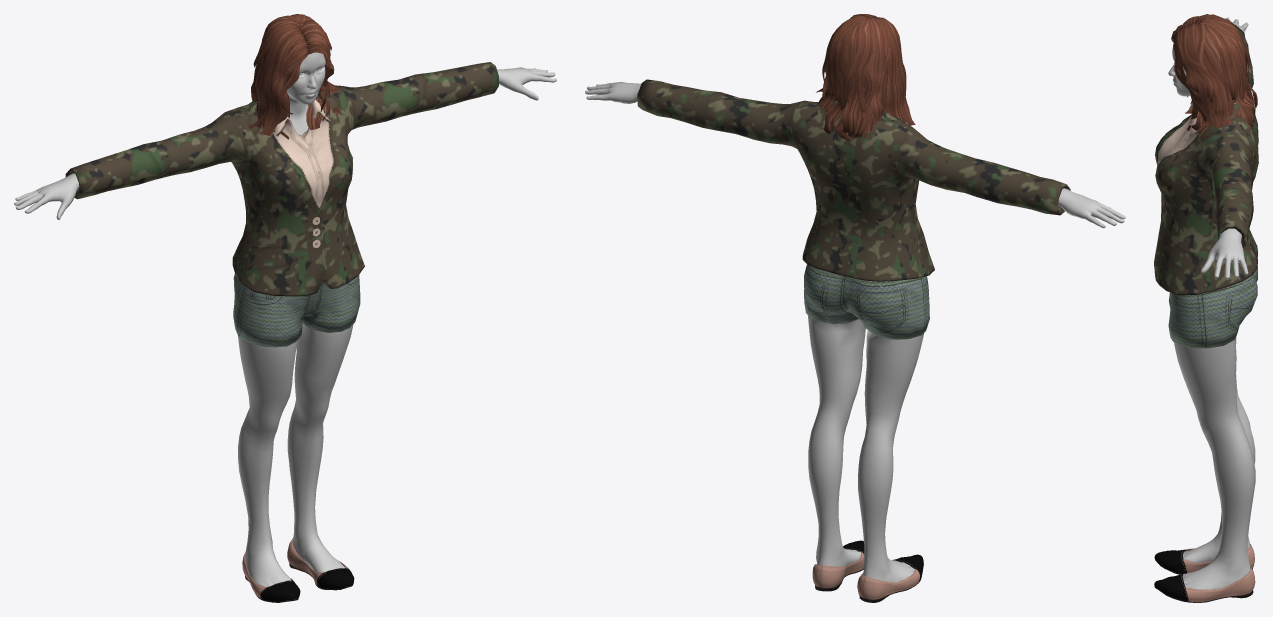
The picture shows the model from 3 angles, left to right: view 1: azimuth 30°, elevation 25°; view 2: azimuth 150°, elevation 25°; view 3: azimuth 270°, elevation 25°; orthographic projection.
Parts seen in each view (by area): view 1: Tops, Body, Hair, Bottoms, Shoes; view 2: Tops, Body, Hair, Bottoms, Shoes; view 3: Tops, Body, Hair, Bottoms, Shoes.
Part boxes in pixels (x1,y1,x2,y2): Tops: [65, 62, 498, 296]; Body: [14, 52, 556, 587]; Hair: [248, 14, 338, 140]; Bottoms: [233, 274, 360, 347]; Shoes: [242, 538, 354, 602]; Tops: [637, 79, 1070, 281]; Body: [585, 82, 1125, 583]; Hair: [816, 14, 915, 140]; Bottoms: [804, 264, 929, 339]; Shoes: [812, 540, 923, 602]; Tops: [1154, 24, 1258, 295]; Body: [1168, 17, 1255, 594]; Hair: [1171, 14, 1257, 138]; Bottoms: [1168, 266, 1257, 348]; Shoes: [1154, 544, 1255, 602].
Size of the model in its own units: 179 by 180 by 30.23.
